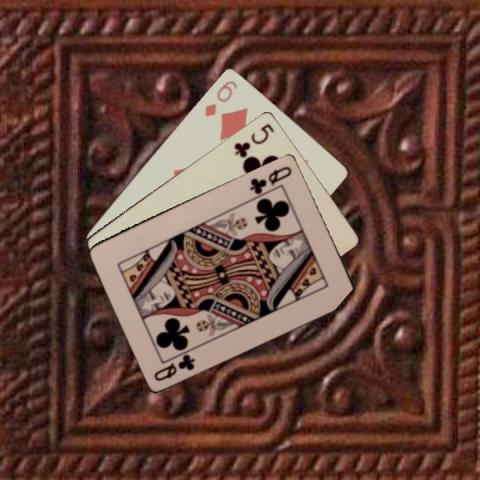5c: (231, 120, 276, 158)
6d: (201, 77, 239, 118)
Qc: (247, 163, 293, 195), (150, 351, 196, 382)
